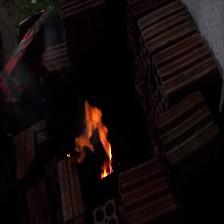fire: (59, 91, 137, 185)
